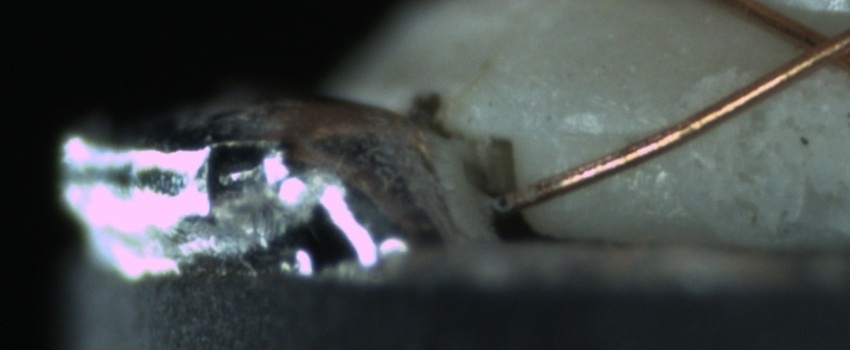CL: (777, 15, 849, 79)
DL: (555, 109, 648, 164)
